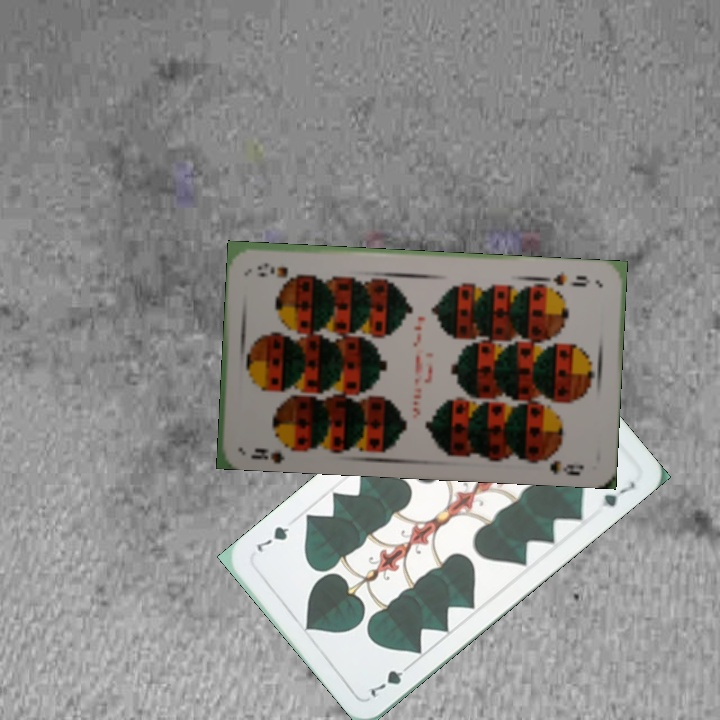G7: (366, 658, 416, 703)
S9: (246, 437, 301, 464), (541, 266, 593, 290)
